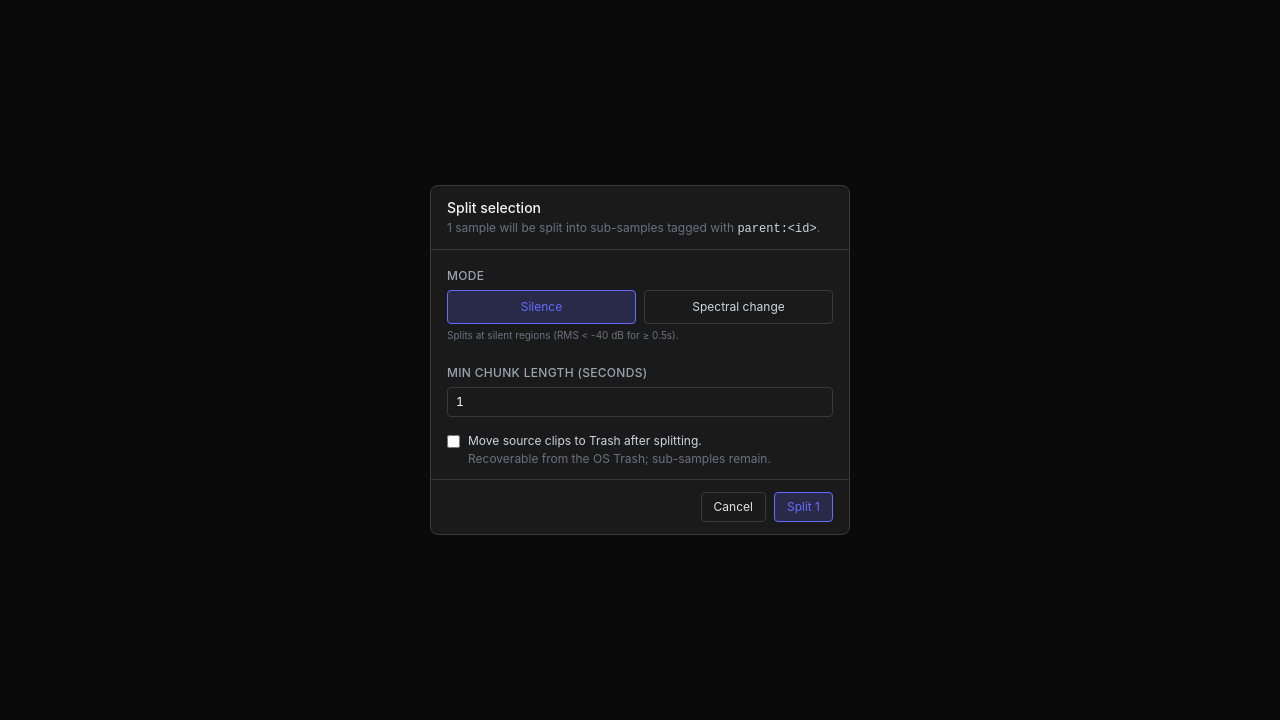
SplitDialog › shows backend error and stays open on failure
Click the button with test id "split-dialog-submit".
click(804, 507)  # box [774, 492, 833, 522]
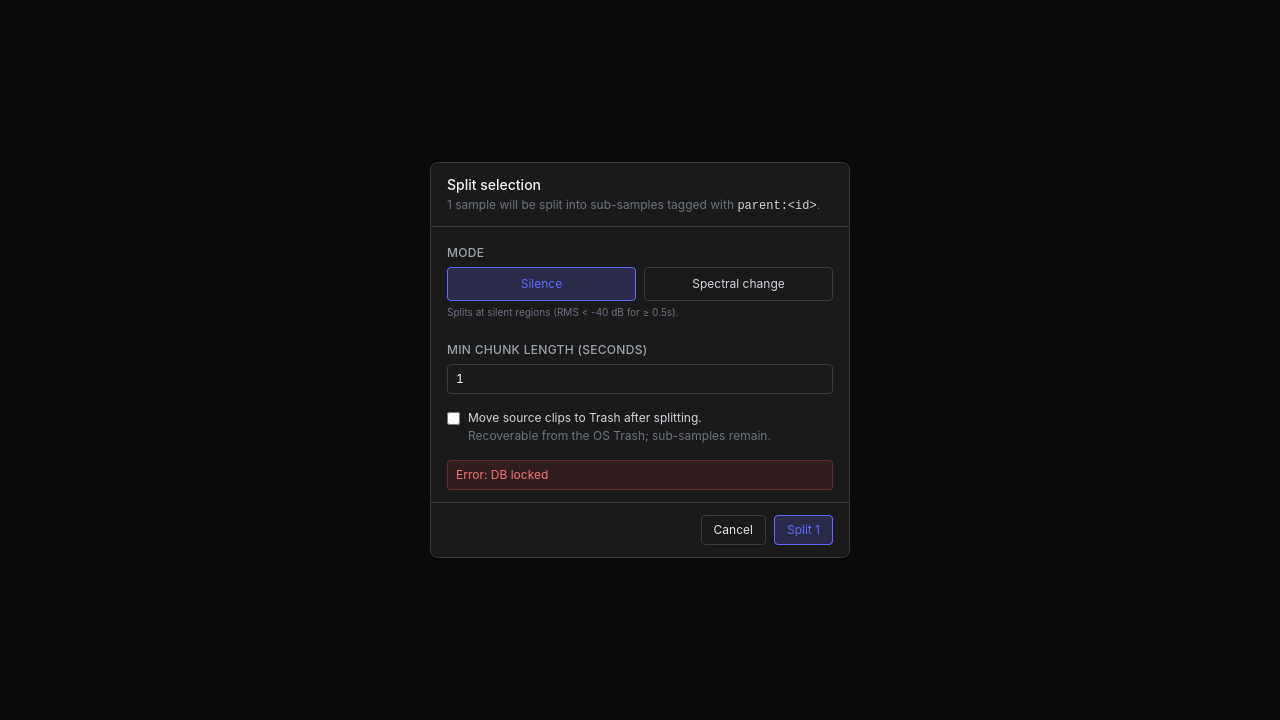
Result: the text with test id "split-dialog-error" shows "DB locked" at [456, 467, 548, 482]
